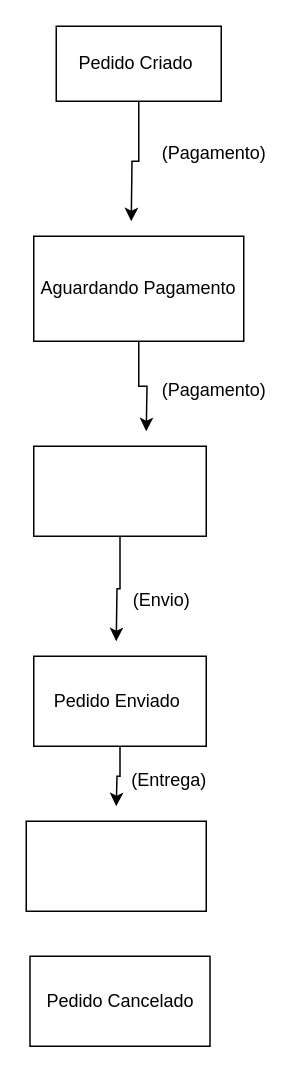
Some shapes in this 308 by 1073 pixel diagram are drawn without their labels. Each missing label, with the centre of its shape:
Pagamento Confirmado: point 119,490
Pedido Entregue: point 115,865
